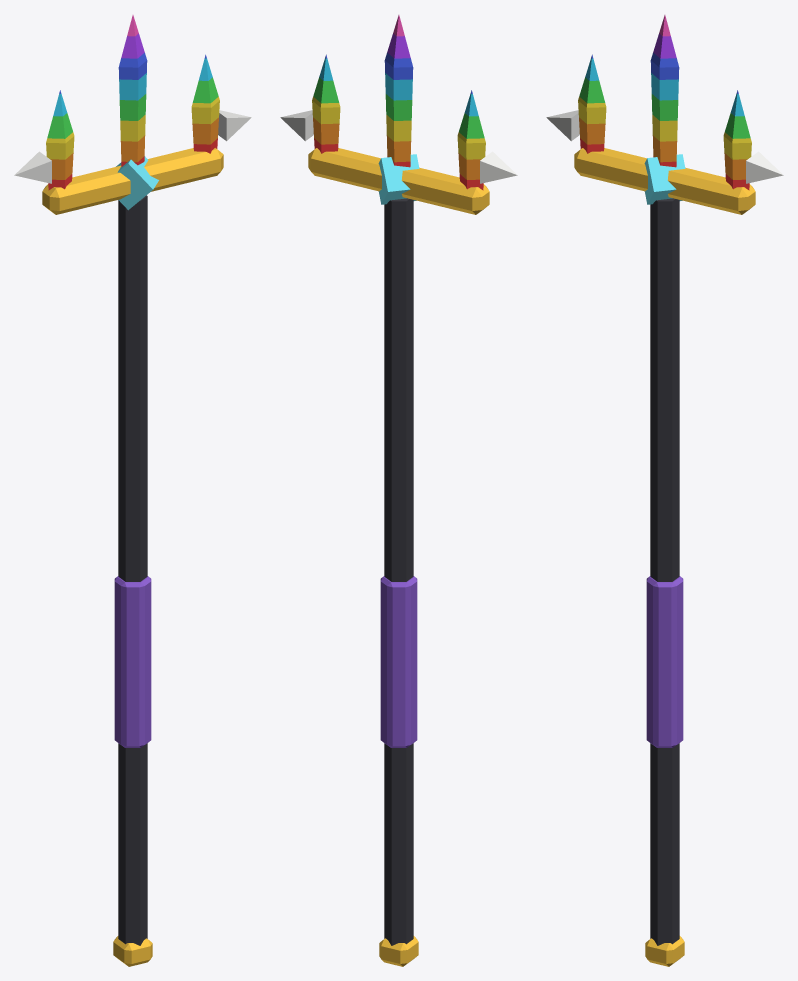
File: RainbowTrident.fbx
3 renders of one model, left to right at view 1: azimuth 30°, elevation 25°; view 2: azimuth 150°, elevation 25°; view 3: azimuth 330°, elevation 25°, orthographic.
Visible parts, largest first — view 1: RainbowTrident; view 2: RainbowTrident; view 3: RainbowTrident.
Boxes of the visible parts, box(x1,y1,x2,y2) form: RainbowTrident: box(14, 15, 251, 966); RainbowTrident: box(280, 15, 517, 966); RainbowTrident: box(546, 15, 783, 966).
Bounding box in the file's own units: 1.5 × 5.72 × 0.3414.
1 material, 1 textured.
